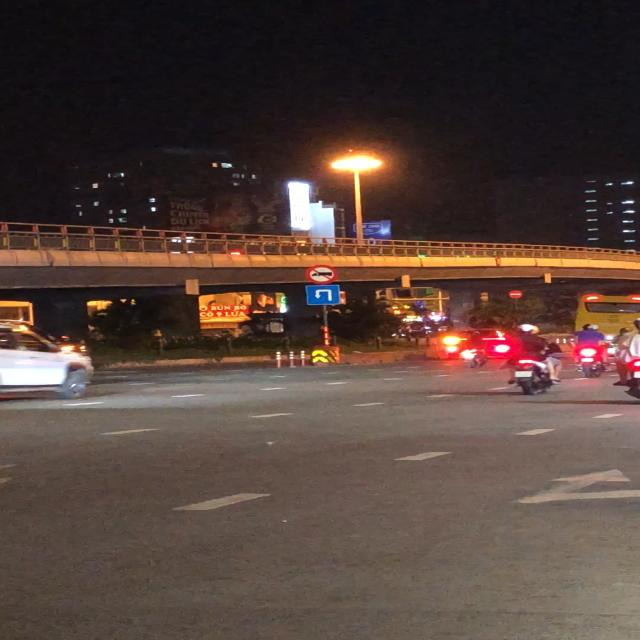Bien bao cam xe so-mi ro-mooc: (305, 264, 338, 285)
